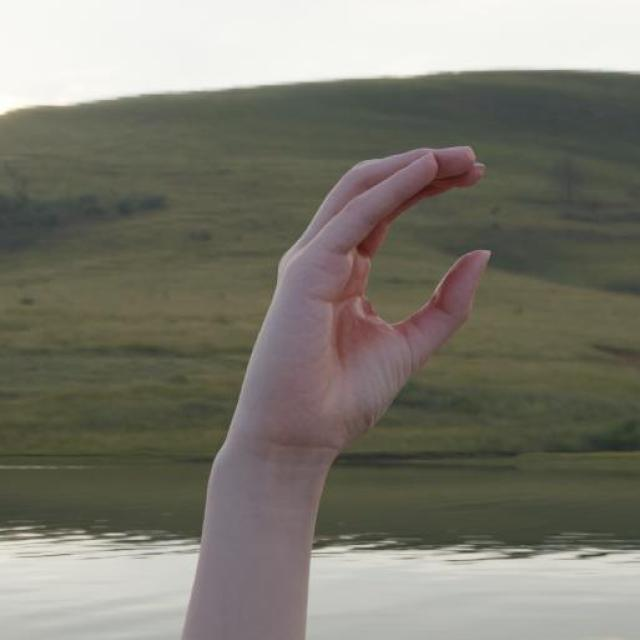C: (229, 144, 496, 462)
